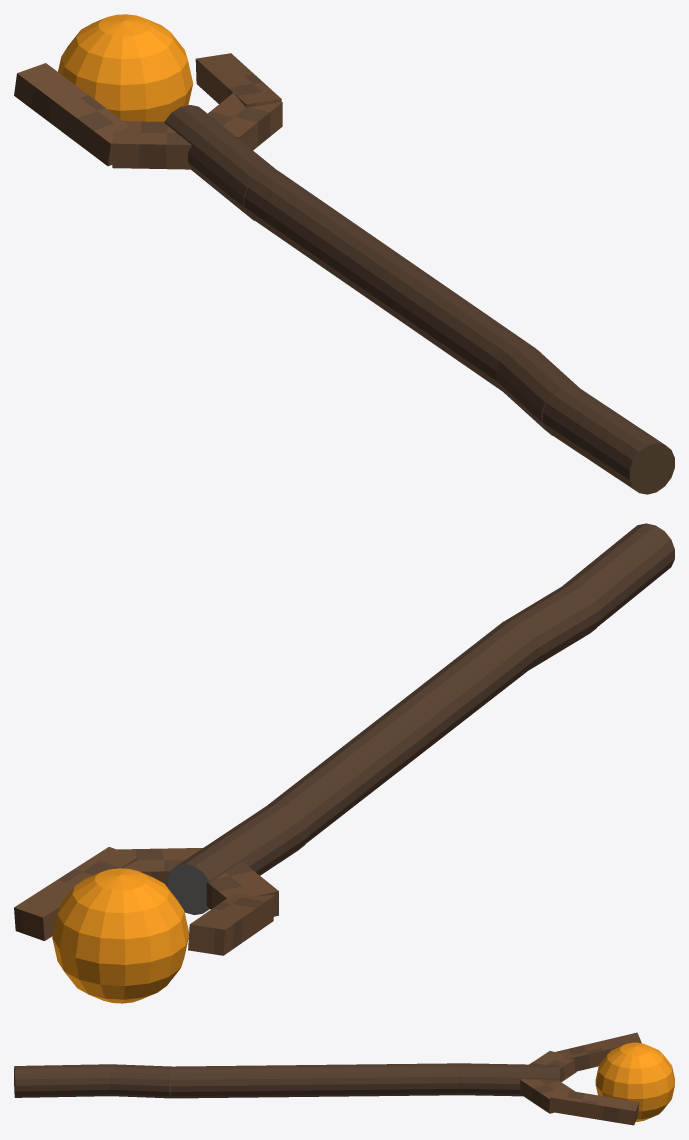
The model's file is staff.gltf.
3 views of the same model, one above another, from view 1: azimuth 30°, elevation 25°; view 2: azimuth 150°, elevation 25°; view 3: azimuth 270°, elevation 25° (orthographic). The views are drawn at different scales.
Parts seen in each view (by area): view 1: cylinder (×4), cube (×4), sphere; view 2: cylinder (×4), sphere, cube (×4); view 3: cylinder (×4), cube (×4), sphere.
Boxes of the visible parts, bbox=[...] form: cylinder (×4): bbox=[164, 105, 674, 494]; cube (×4): bbox=[14, 53, 282, 169]; sphere: bbox=[58, 14, 193, 121]; cylinder (×4): bbox=[168, 523, 674, 914]; sphere: bbox=[52, 868, 188, 1003]; cube (×4): bbox=[14, 847, 278, 955]; cylinder (×4): bbox=[14, 1063, 559, 1098]; cube (×4): bbox=[520, 1032, 641, 1125]; sphere: bbox=[595, 1042, 674, 1121].
Bounding box in the file's own units: 0.5707 × 0.3125 × 2.61.
Materials: 1 (1 with a texture image).
